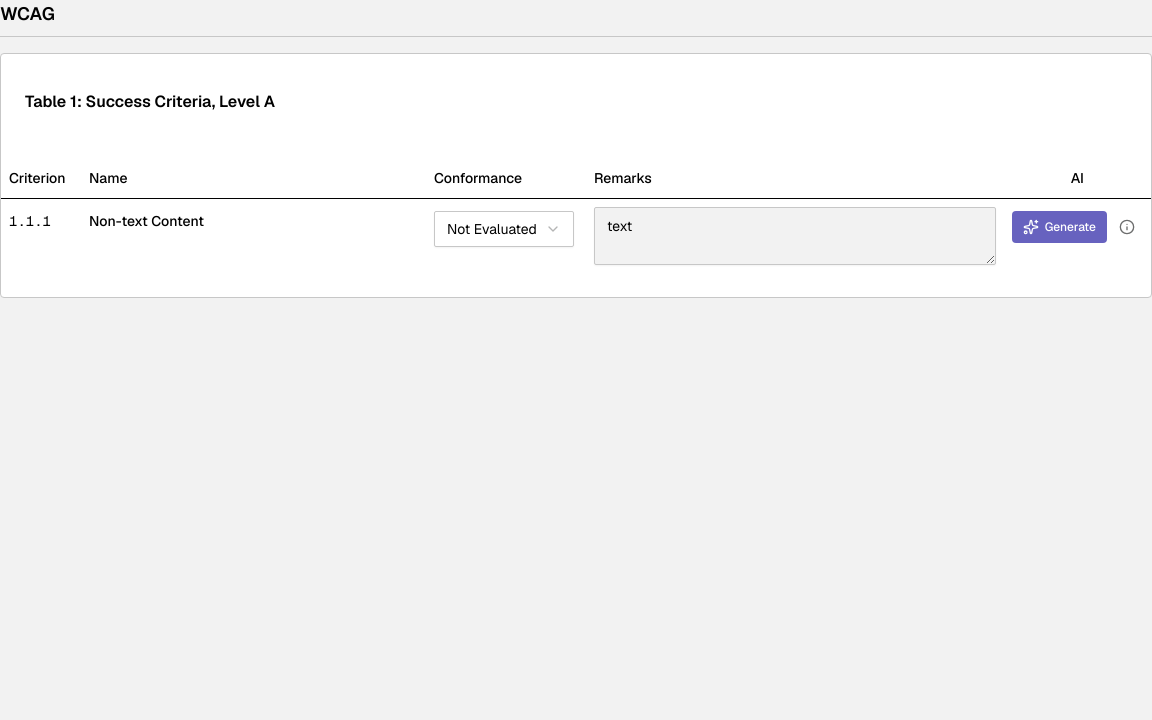
Test: VpatCriteriaTable › closes the AI panel when the close button is clicked
Click the button named "ai info for 1.1.1". click: (1127, 226)
box: left=1111, top=210, right=1143, bottom=242
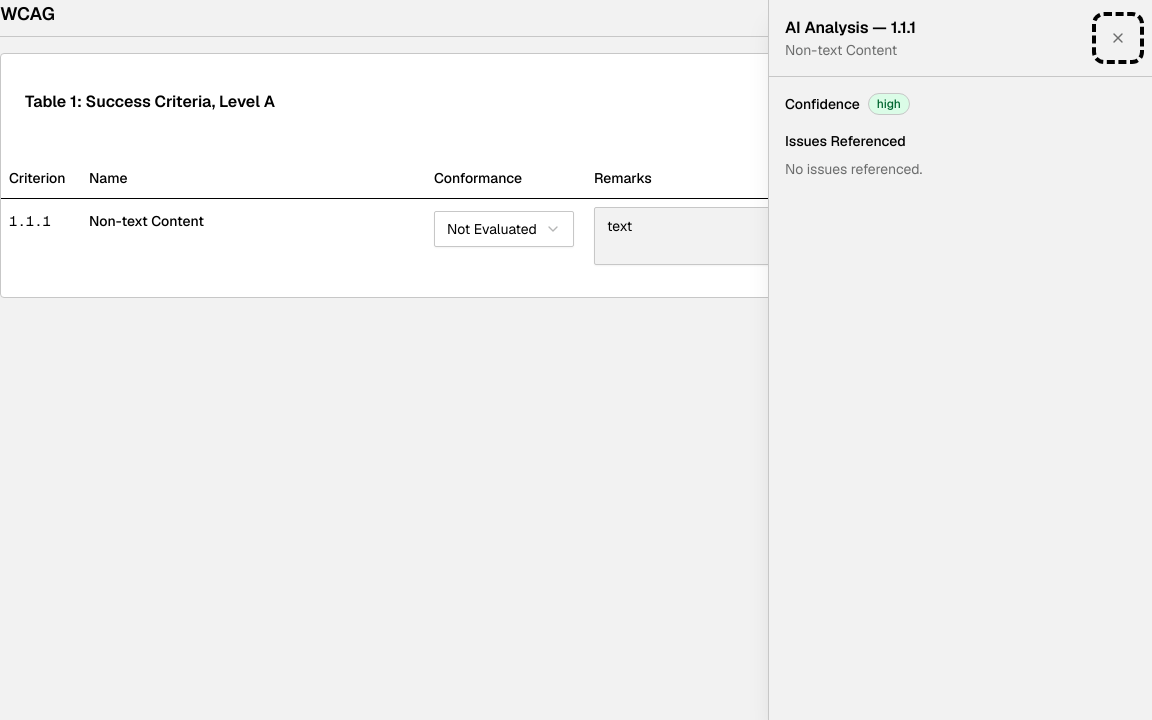
Result: the dialog is shown at left=768, top=0, right=1151, bottom=719
Click the button named "close". click: (1118, 38)
box: left=1100, top=20, right=1136, bottom=56
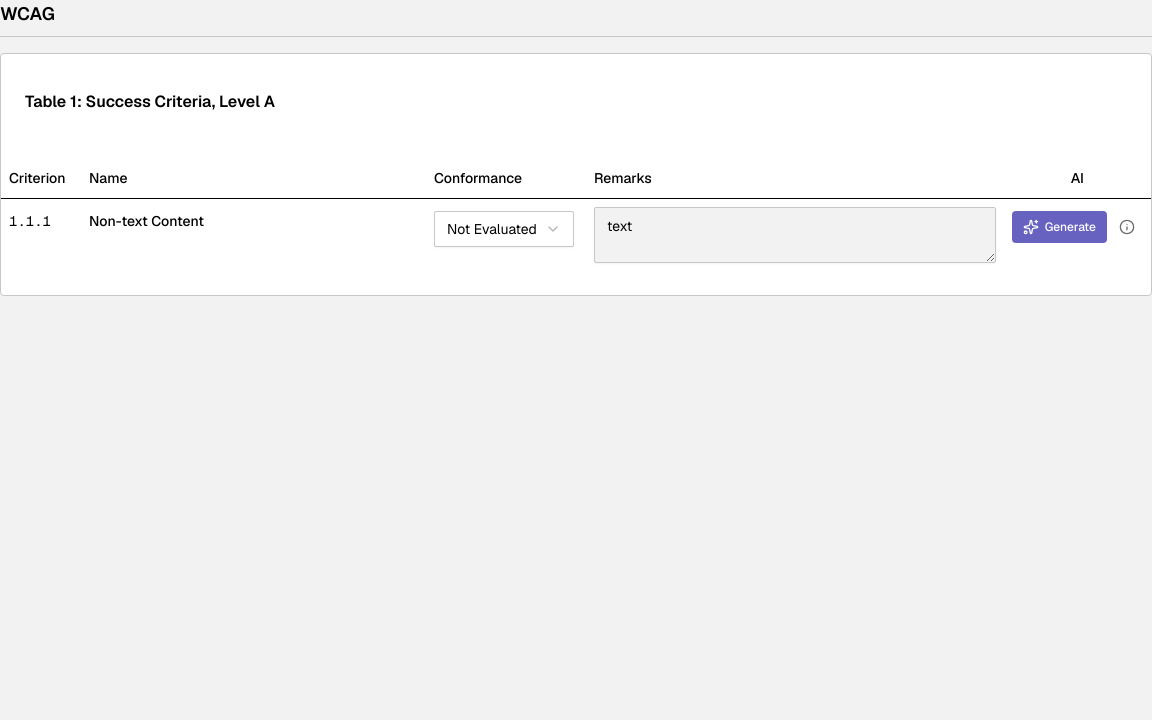
Result: the dialog is gone
